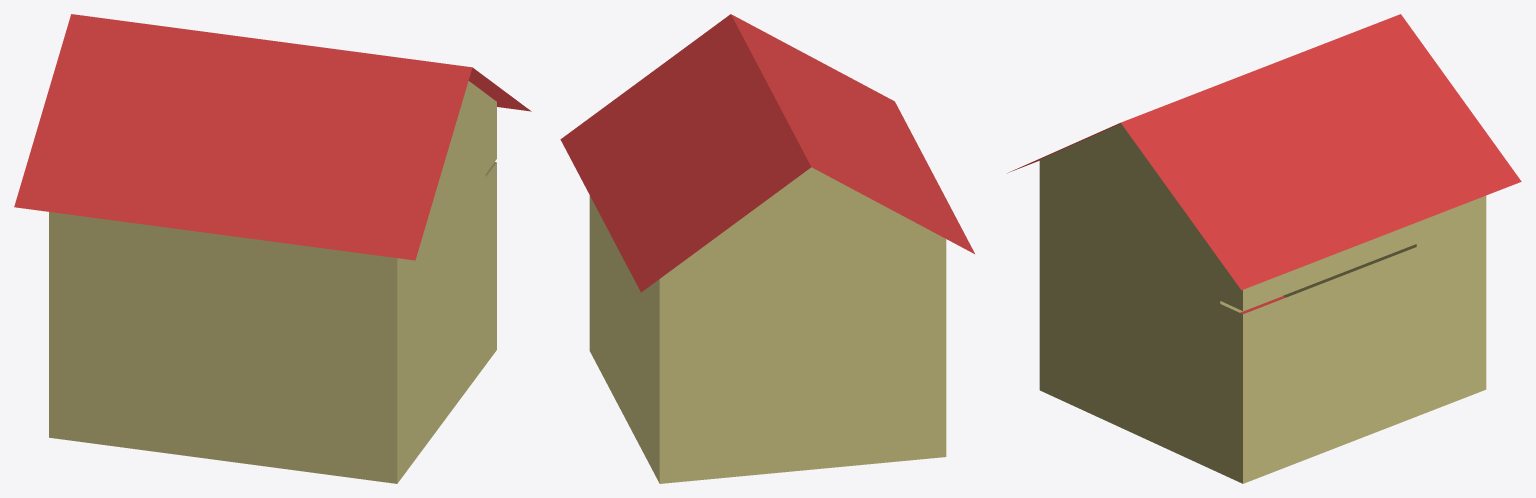
3 views of the same model, side by side, from view 1: azimuth 30°, elevation 25°; view 2: azimuth 150°, elevation 25°; view 3: azimuth 270°, elevation 25° (orthographic). The views are drawn at different scales.
Bounding box in the file's own units: 15.38 × 15.43 × 10.55.
